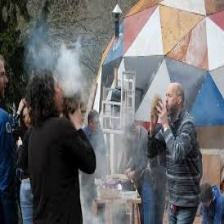smoke: (105, 128, 132, 198), (56, 44, 85, 92)
